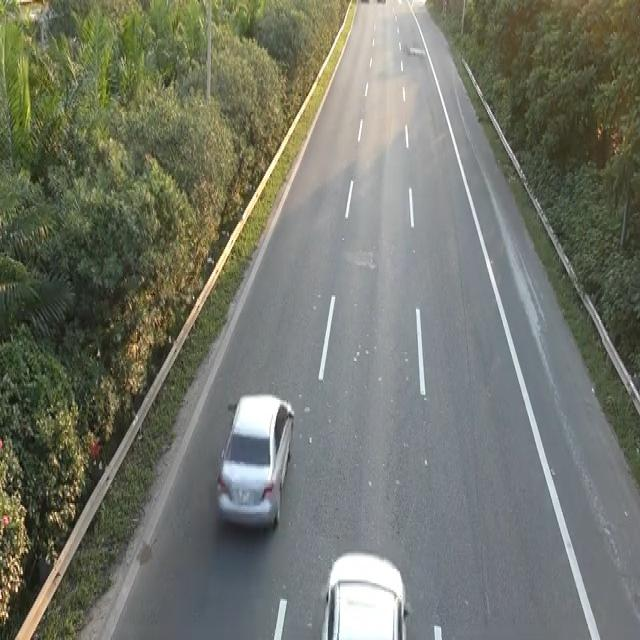bus: (213, 389, 297, 537), (319, 546, 409, 636)
